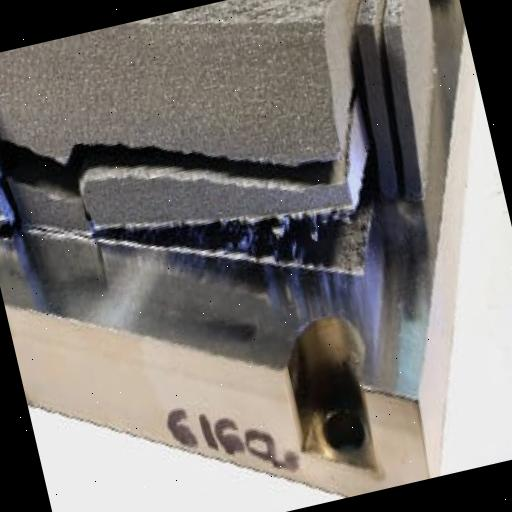cracks: (28, 72, 357, 262)
